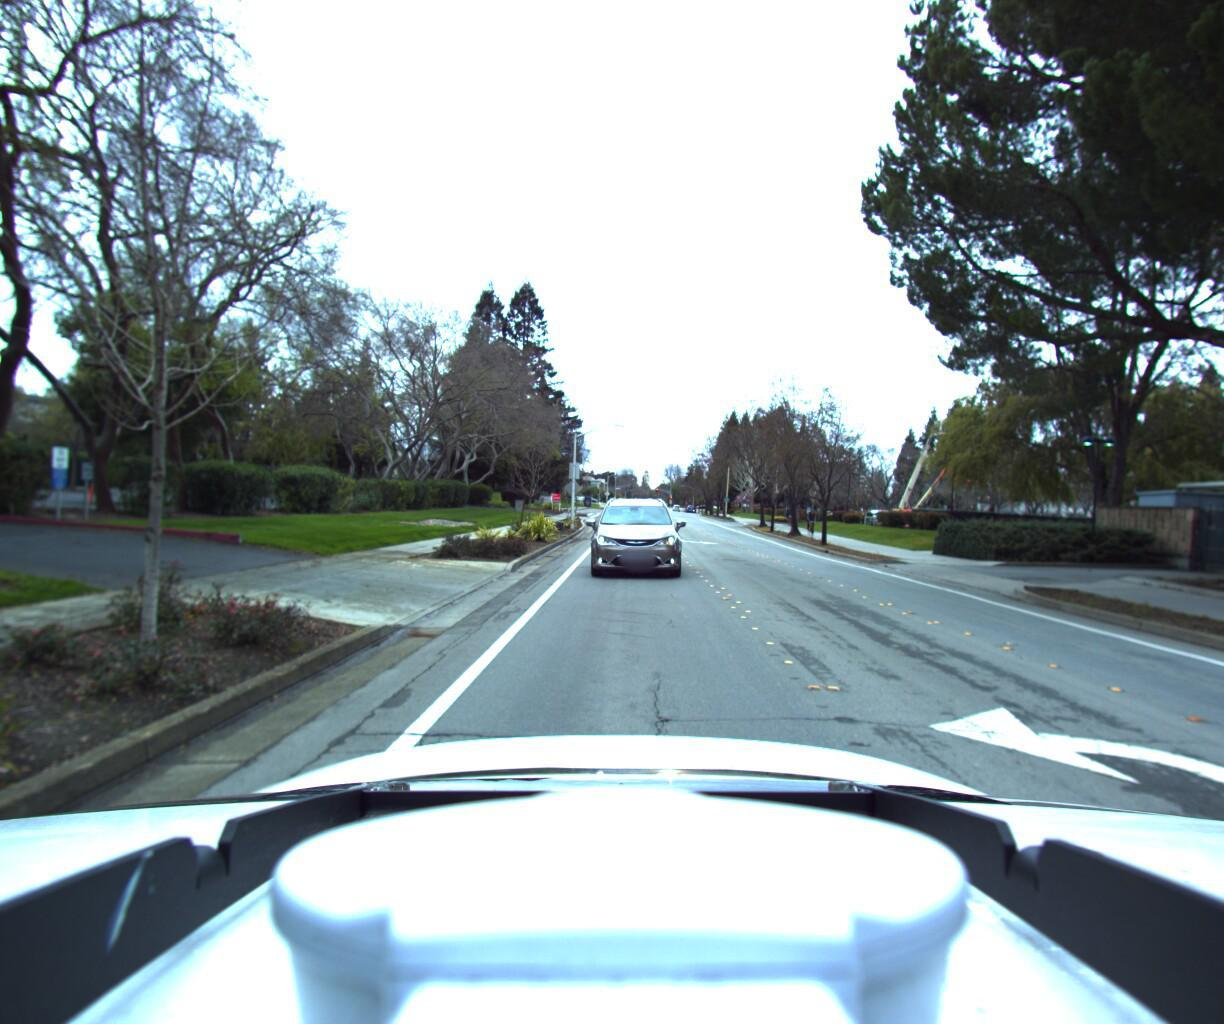bicycle: (804, 505, 822, 532)
car: (584, 494, 680, 581)
